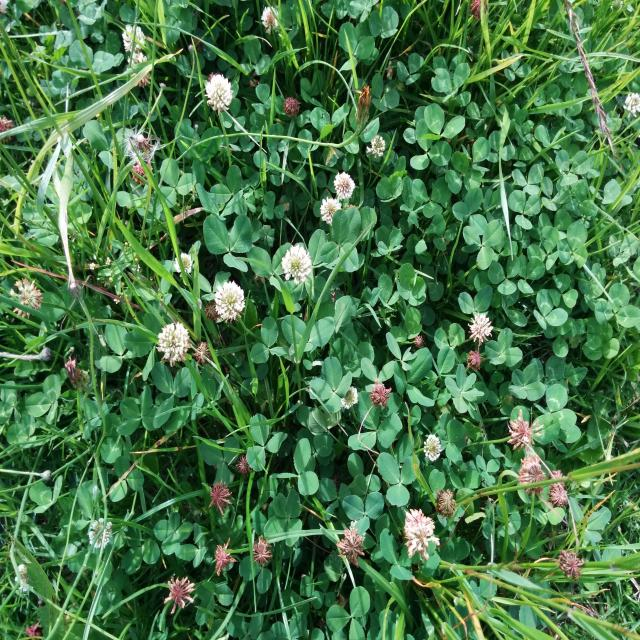Four Leaf Clover: (307, 357, 352, 413), (116, 385, 159, 436), (264, 490, 302, 546), (444, 365, 483, 412), (155, 512, 193, 554), (485, 327, 522, 362), (508, 367, 545, 400)
